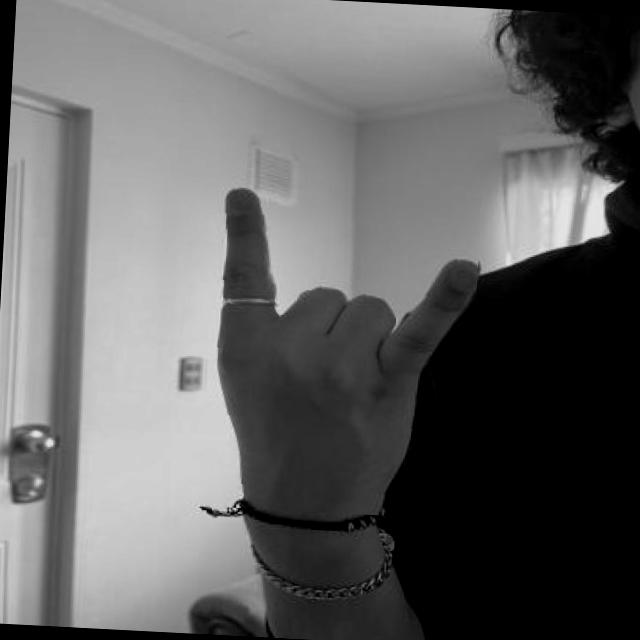U: (195, 177, 482, 520)
